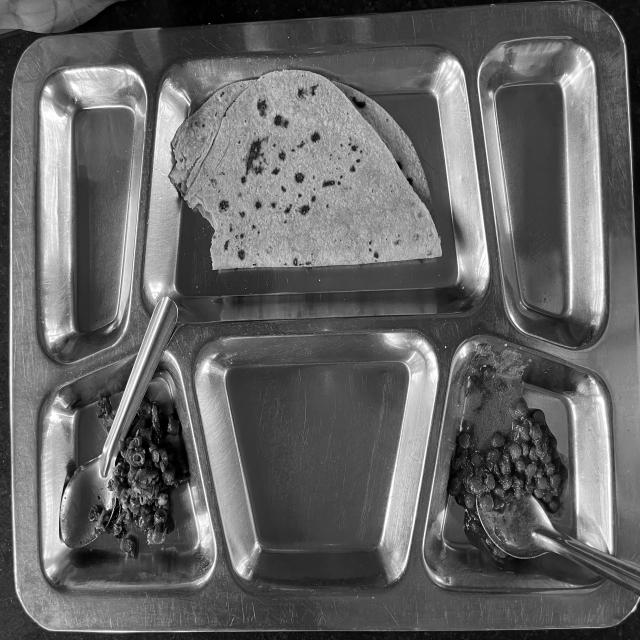50.5- Food Left: (36, 51, 614, 590)
